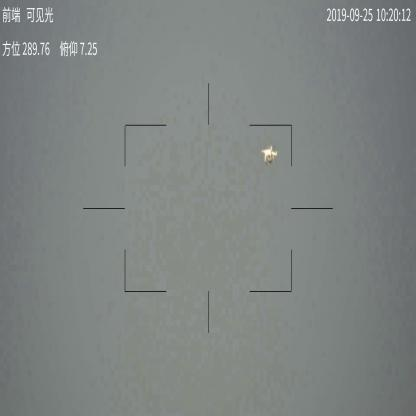uav: (260, 144, 280, 166)
